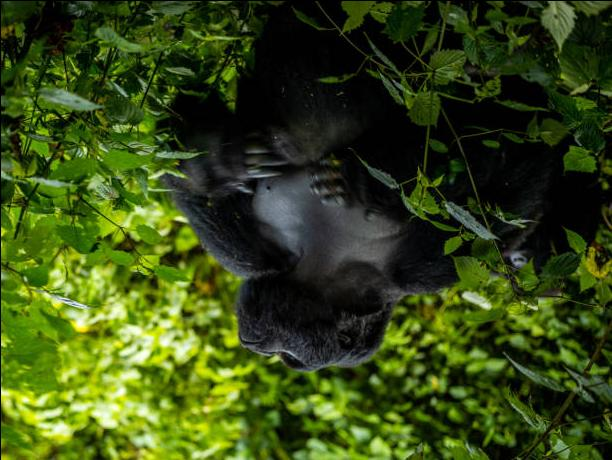goriile_montagne: (163, 16, 497, 408)
